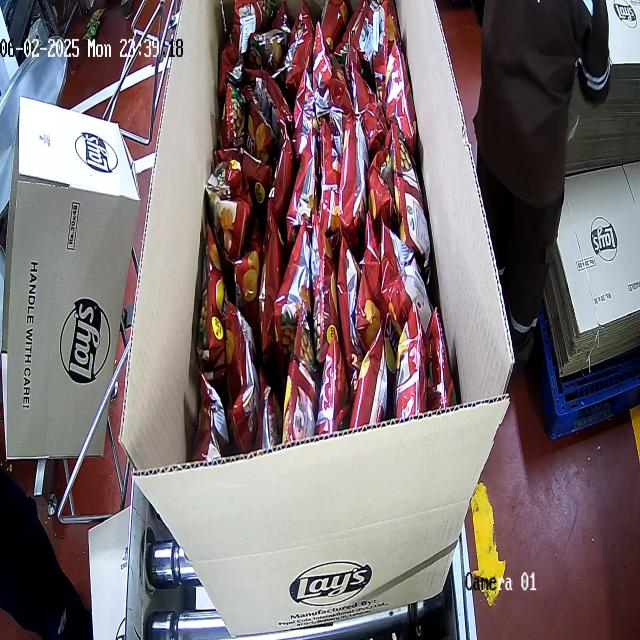MASALA: (186, 0, 444, 459)
